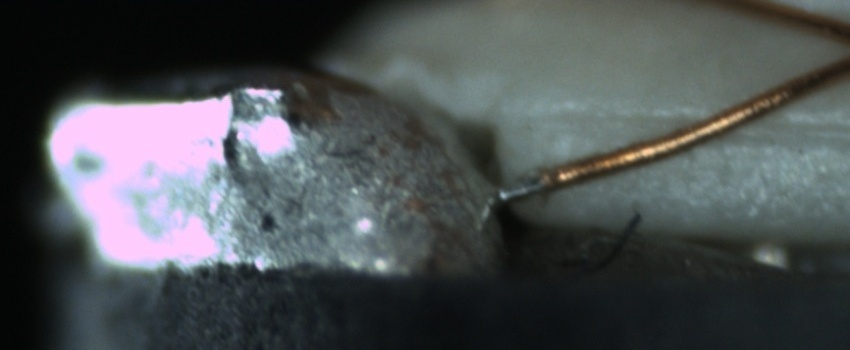DL: (529, 87, 849, 155)
TS: (495, 175, 544, 204)
